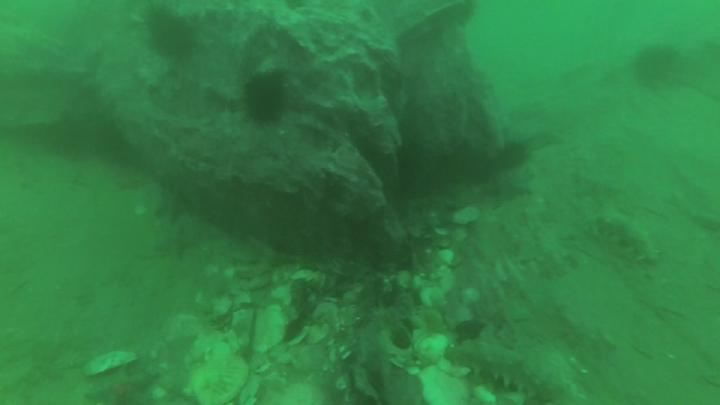echinus: (144, 14, 193, 59), (242, 74, 287, 123), (632, 47, 676, 88), (494, 144, 524, 168)
holothurian: (453, 340, 579, 405), (590, 210, 658, 266)
scallop: (194, 359, 248, 405), (84, 350, 137, 378)
starfish: (87, 370, 158, 405), (489, 168, 535, 206)
